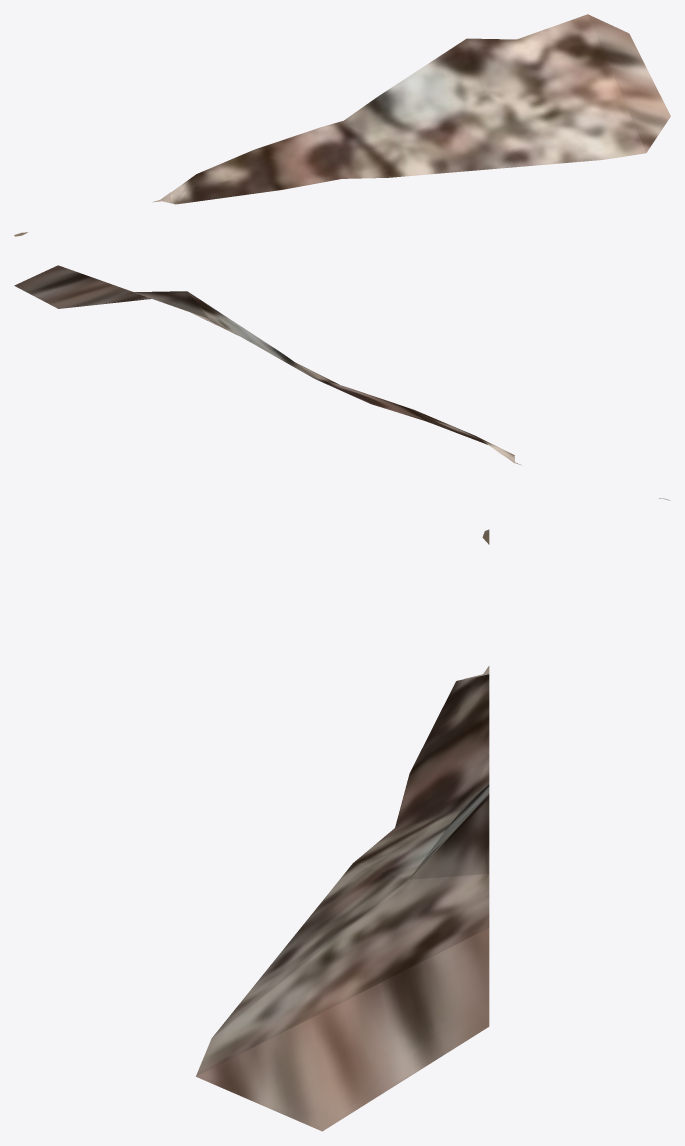
The picture shows the model from 3 angles, top to bottom: view 1: azimuth 30°, elevation 25°; view 2: azimuth 150°, elevation 25°; view 3: azimuth 270°, elevation 25°; orthographic projection. The views are drawn at different scales.
Size of the model in its own units: 1.67 by 0.2261 by 0.3459.
Materials: 1 (1 with a texture image).
